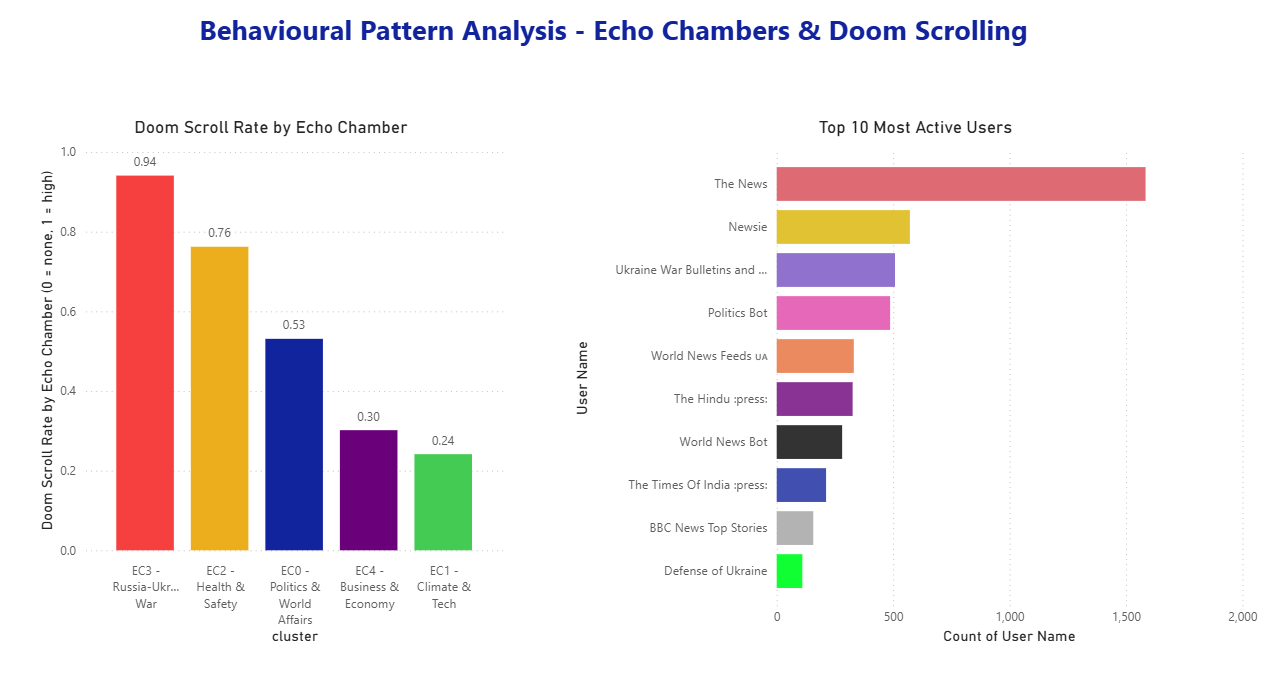

The dashboard page shown, as its layout file describes it:
{"tool":"powerbi","page":{"name":"Behaviour Analysis","canvas":[1280,720],"ordinal":1},"visuals":[{"type":"clusteredColumnChart","title":"Doom Scroll Rate by Echo Chamber","fields":{"Category":["PowerBi Alalysis data.cluster"],"Y":["Avg(PowerBi Alalysis data.doom_scroll)"]},"box":[53.5,136.2,463,517.4],"z":2000},{"type":"clusteredBarChart","title":"Top 10 Most Active Users","fields":{"Category":["PowerBi Alalysis data.User Name"],"Y":["CountNonNull(PowerBi Alalysis data.User Name)"]},"box":[573.9,136.2,676,517.4],"z":2001},{"type":"textbox","box":[210.1,27.2,859.8,46.7],"z":2002}]}

Visuals, with their boxes on the page's 1280x720 design canvas (x1, y1, x2, y2). These are canvas units, not pixel positions in the 1273x692 screenshot, which may show the page scaled, cropped or inside an application window:
"Doom Scroll Rate by Echo Chamber" clusteredColumnChart: [54,136,516,654]
"Top 10 Most Active Users" clusteredBarChart: [574,136,1250,654]
textbox: [210,27,1070,74]
